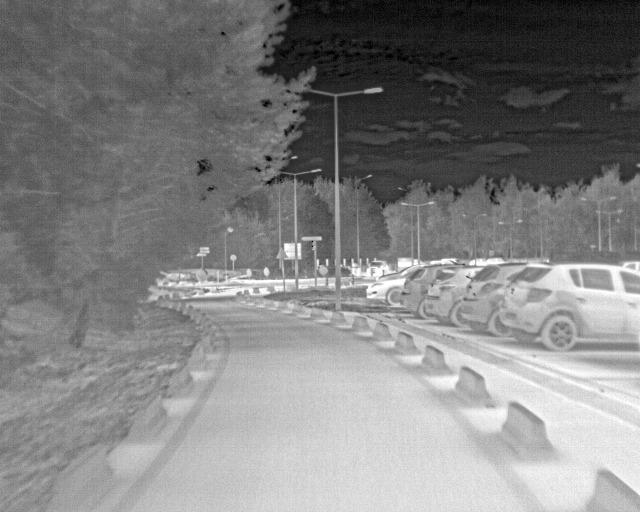car: (501, 260, 639, 352), (464, 262, 538, 337), (425, 265, 491, 327), (401, 265, 441, 319), (367, 267, 417, 306), (398, 258, 428, 271), (368, 261, 389, 275), (620, 260, 639, 271), (469, 258, 487, 265), (485, 258, 505, 264)
light: (311, 240, 316, 251)
sign: (284, 243, 302, 260), (276, 248, 288, 259), (301, 236, 322, 241), (319, 267, 328, 275), (246, 269, 252, 277), (264, 267, 269, 276), (230, 255, 236, 261), (199, 247, 209, 250), (200, 250, 209, 253), (197, 253, 206, 256)
